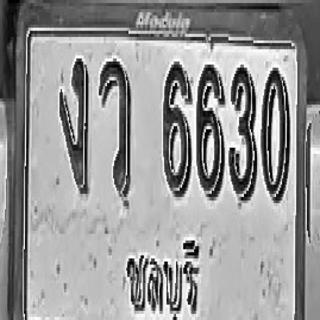A07: (59, 55, 89, 194)
A37: (99, 57, 131, 205)
N00: (261, 64, 290, 203)
N03: (228, 63, 257, 202)
N06: (163, 60, 192, 196), (196, 63, 225, 198)
P13: (125, 235, 202, 320)
